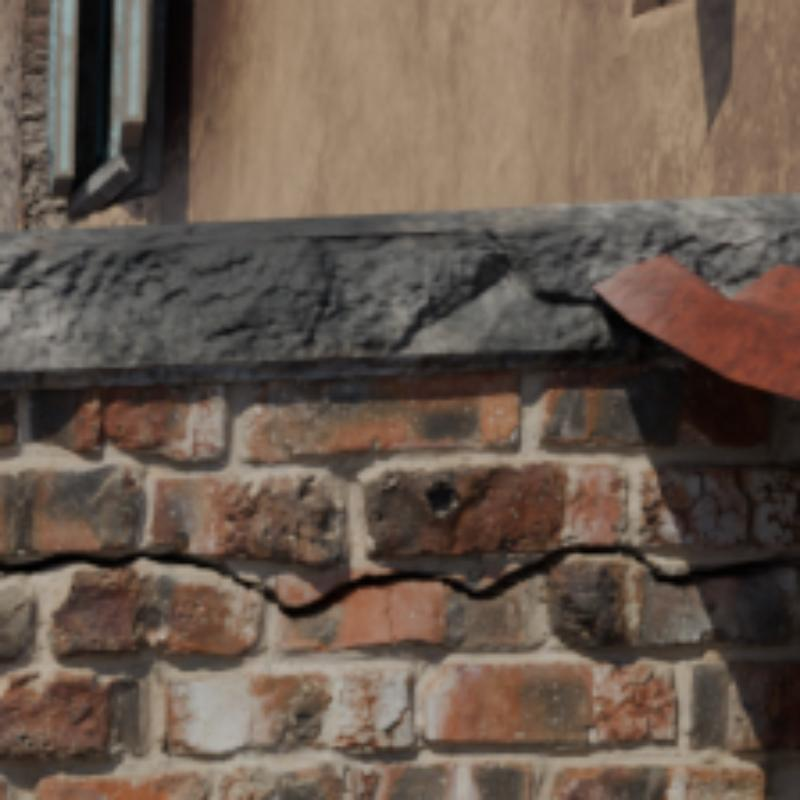crack: (0, 543, 796, 618), (736, 468, 761, 550)
